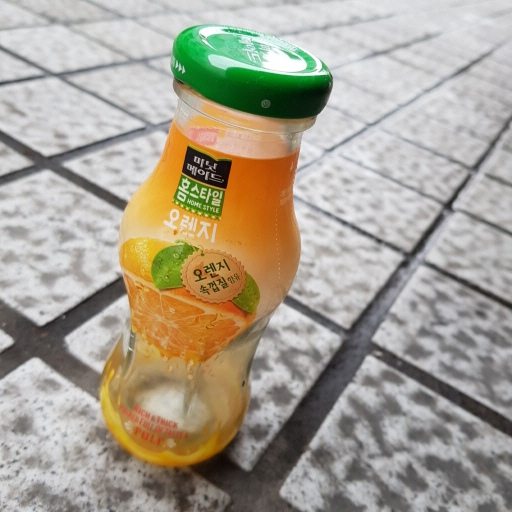Glass_4: (94, 23, 333, 482)
